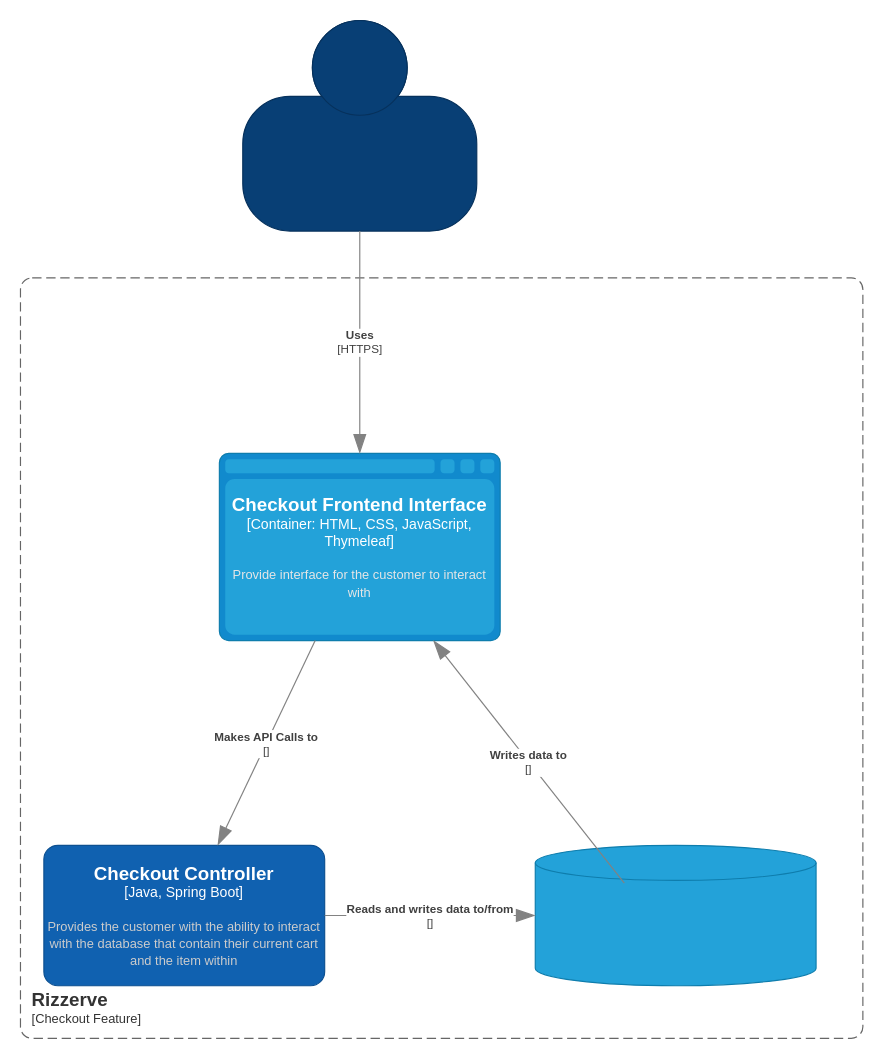
Some shapes in this 883 by 1059 pixel diagram are drawn without their labels. The centre of each missing label's shape, as x and y in pixels:
"Customer [Person] Interacting with the checkout frontend" goes at pixel 359 125.
"Database [Container: Local Repositories] Stores user's cart, cartItem in cart" goes at pixel 675 915.
